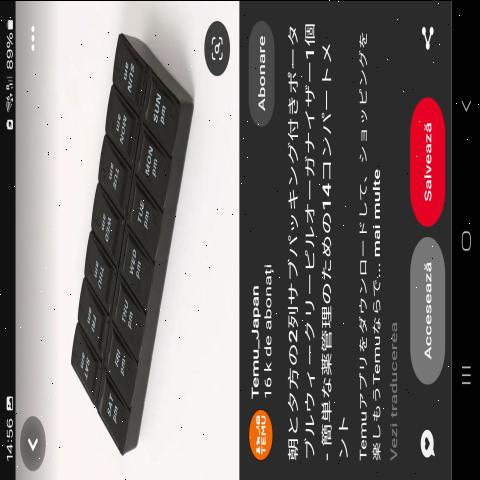PillBox: (61, 20, 195, 458)
